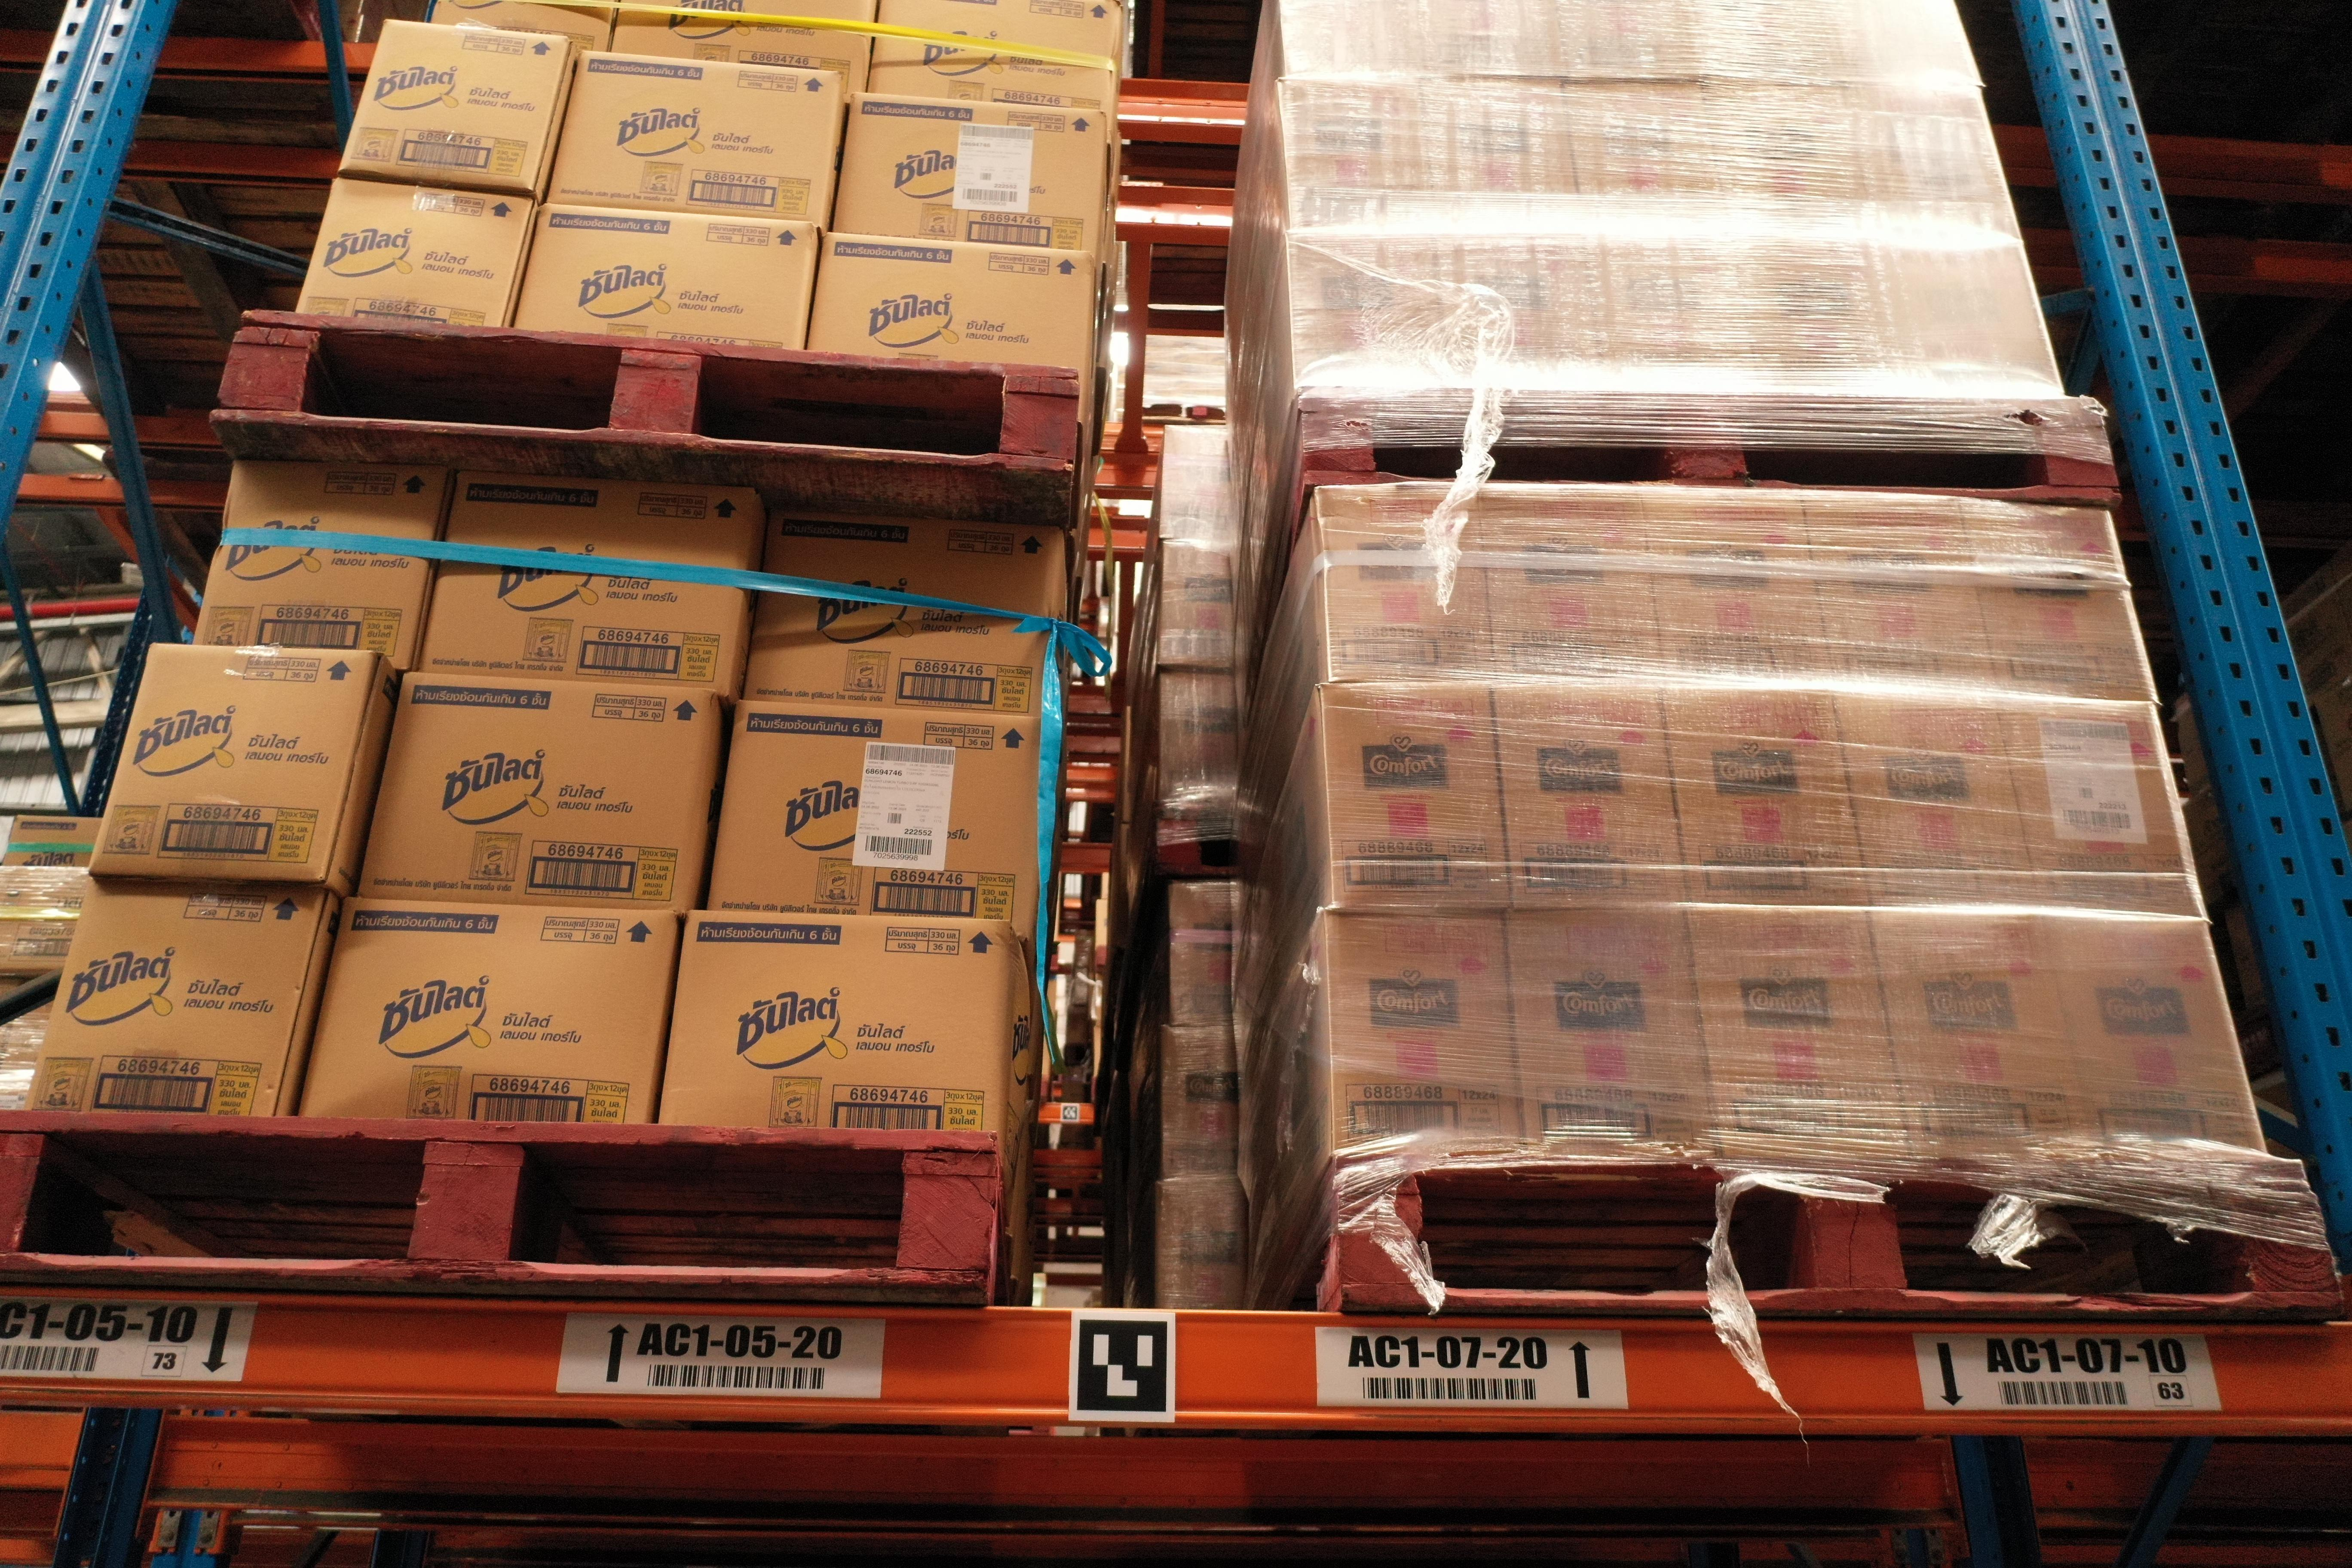-: (357, 666, 716, 913), (297, 896, 679, 1122), (703, 694, 1040, 943), (653, 907, 1004, 1135), (421, 473, 756, 698), (24, 875, 331, 1118), (84, 640, 380, 885), (741, 505, 1060, 714), (1874, 907, 2098, 1163), (1689, 903, 1911, 1161), (2048, 909, 2269, 1165), (1507, 905, 1724, 1163), (189, 460, 449, 675), (545, 49, 837, 224), (1324, 907, 1524, 1161), (1659, 686, 1872, 909), (1831, 690, 2042, 911), (515, 200, 815, 355), (2001, 698, 2207, 922), (1491, 677, 1691, 907), (1320, 679, 1513, 911), (833, 92, 1103, 257), (1803, 488, 2003, 705), (1962, 494, 2160, 703), (808, 232, 1091, 377), (1640, 486, 1837, 692), (337, 19, 569, 192), (1474, 484, 1666, 690), (295, 171, 537, 330), (1315, 488, 1496, 683), (1878, 246, 2067, 401), (1435, 232, 1614, 396), (1843, 85, 2020, 250), (1698, 85, 1878, 246), (1736, 242, 1911, 400), (1418, 78, 1588, 238), (1286, 230, 1450, 395), (1589, 238, 1760, 395), (1562, 83, 1732, 240), (612, 0, 878, 97), (1277, 80, 1435, 233), (1825, 0, 1987, 87), (1694, 1, 1848, 83), (429, 0, 619, 52)
